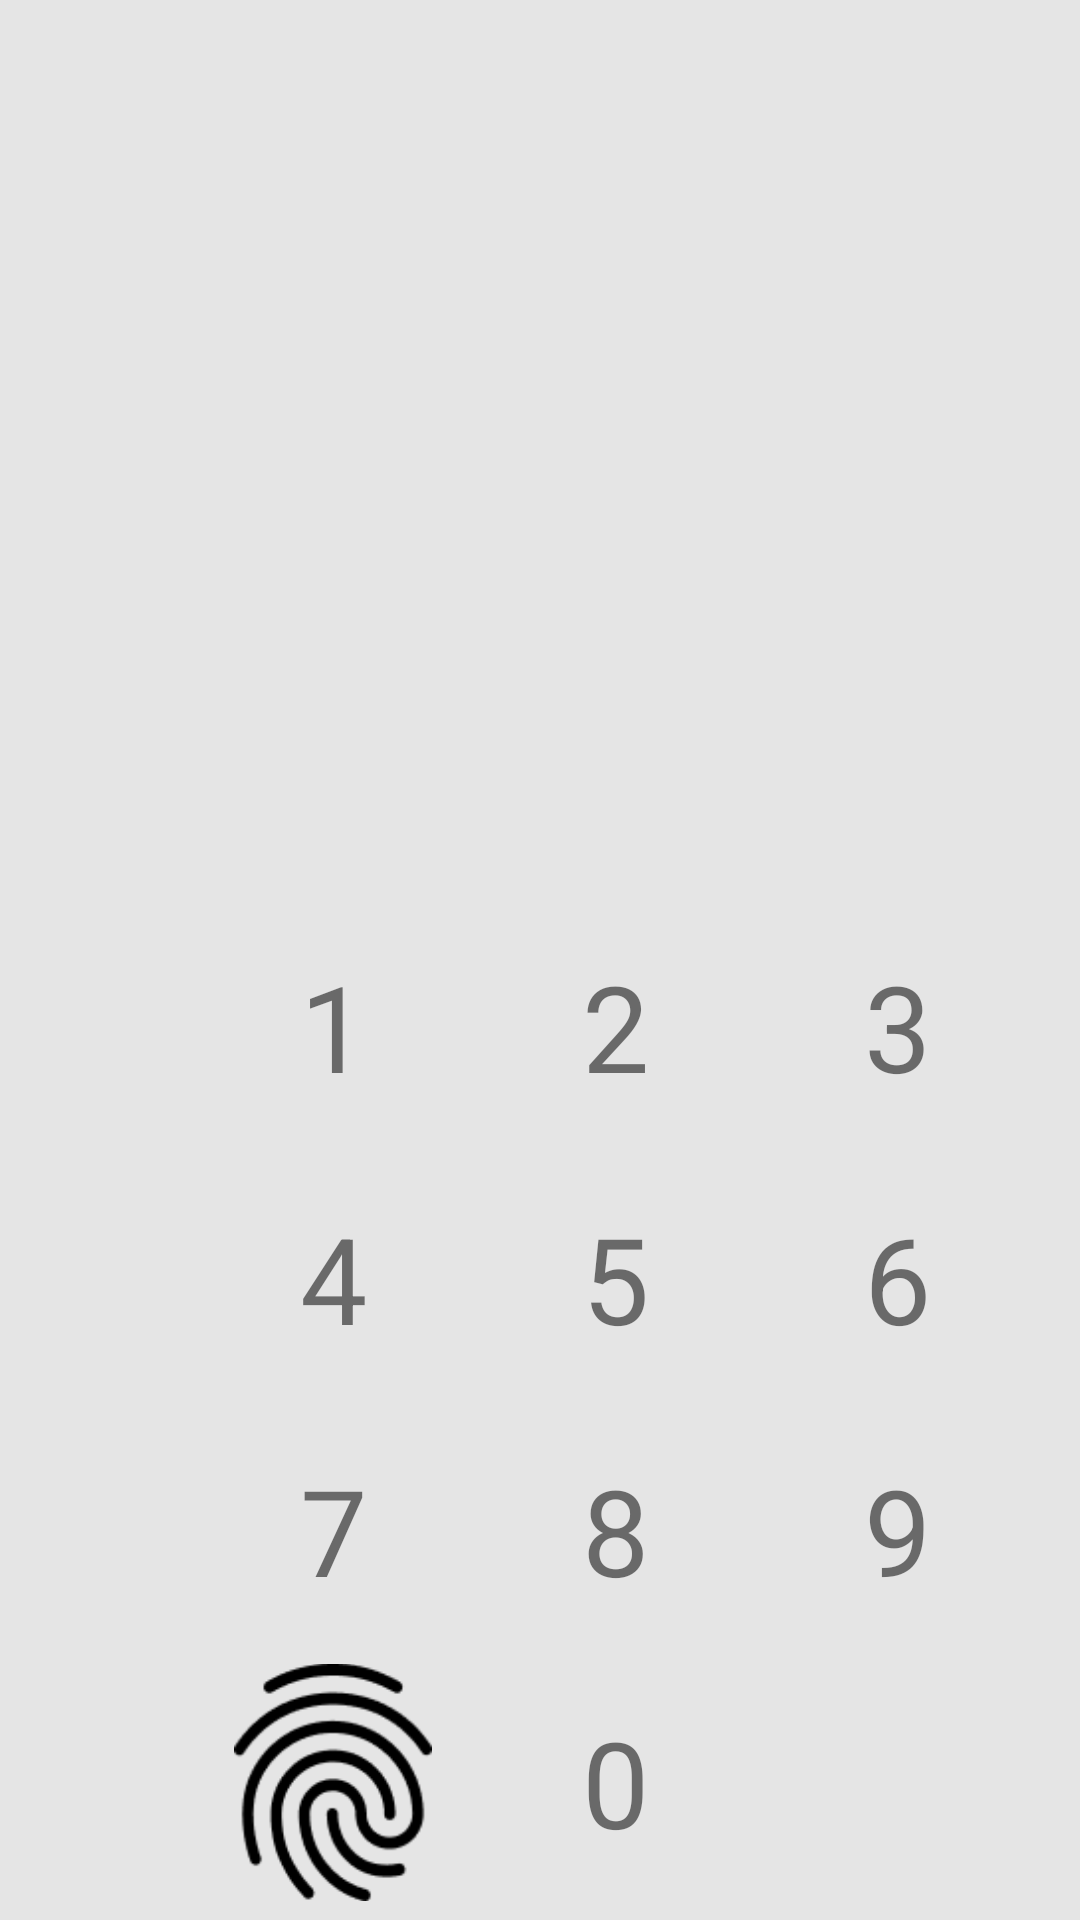

Screen size 1080×1920. Icon name, then its box in pixels as [left=x1, top=y1, right=x2, bottom=y2]:
imgefingerprint: [left=234, top=1664, right=432, bottom=1901]
